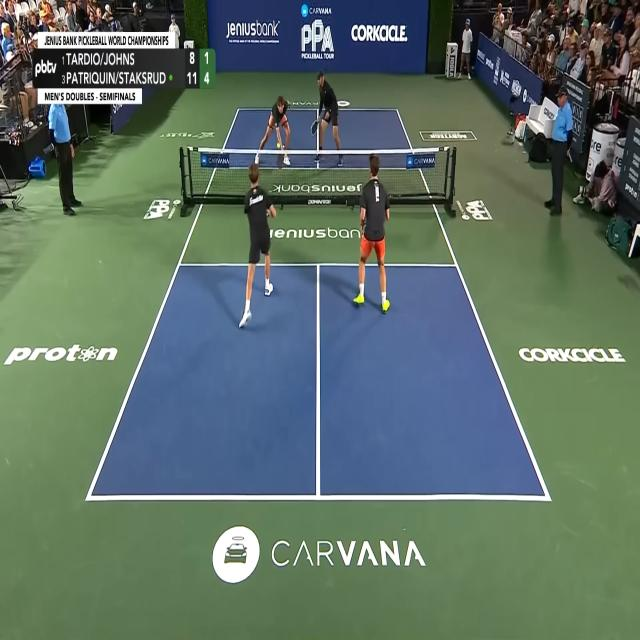ball: (276, 142, 280, 148)
